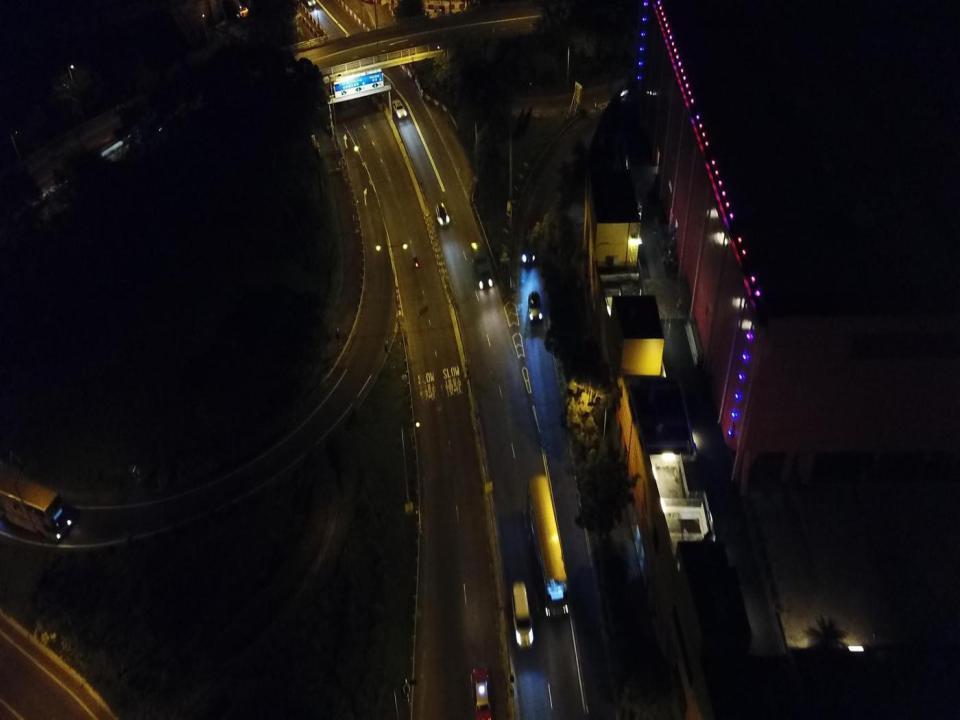bus: (526, 474, 569, 620), (0, 464, 71, 541)
car: (471, 666, 492, 719), (473, 256, 493, 289), (522, 231, 539, 265), (528, 292, 544, 324), (436, 202, 449, 226), (392, 98, 406, 120)
van: (510, 582, 534, 650)
